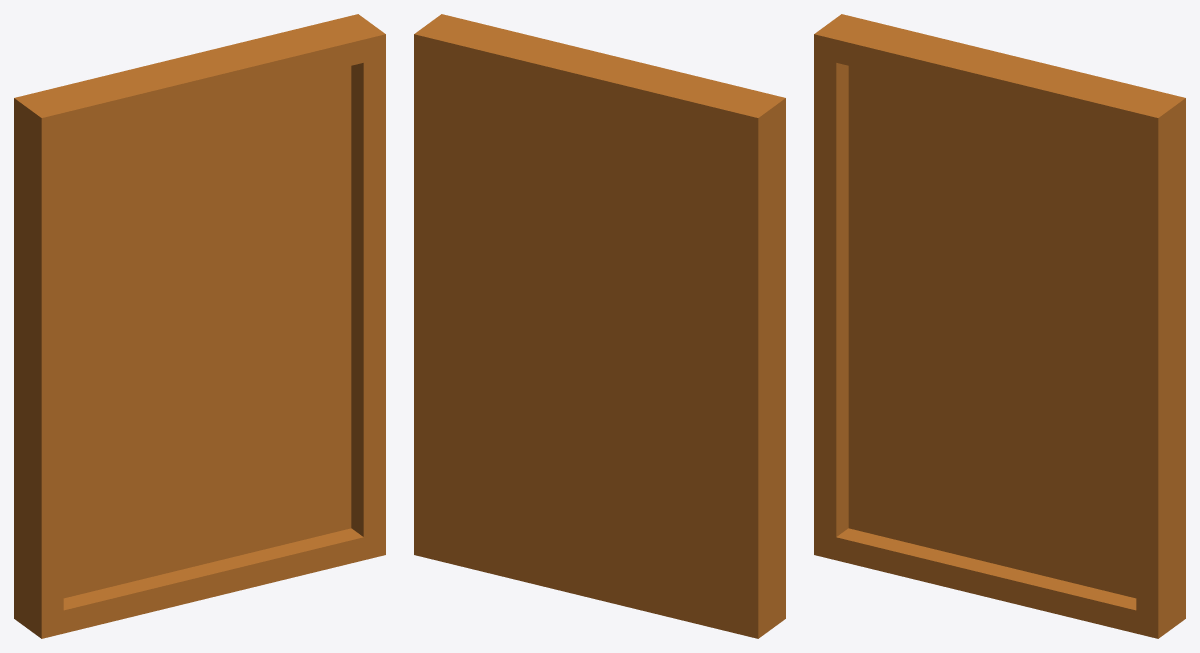
Rendered from Palissade.fbx.
The picture shows the model from 3 angles, left to right: view 1: azimuth 30°, elevation 25°; view 2: azimuth 150°, elevation 25°; view 3: azimuth 330°, elevation 25°; orthographic projection.
Parts seen in each view (by area): view 1: Palissade; view 2: Palissade; view 3: Palissade.
Part boxes in pixels (x1=…): Palissade: x1=14, y1=14, x2=385, y2=638; Palissade: x1=414, y1=14, x2=785, y2=638; Palissade: x1=814, y1=14, x2=1185, y2=638.
Size of the model in its own units: 138 by 200 by 19.21.
